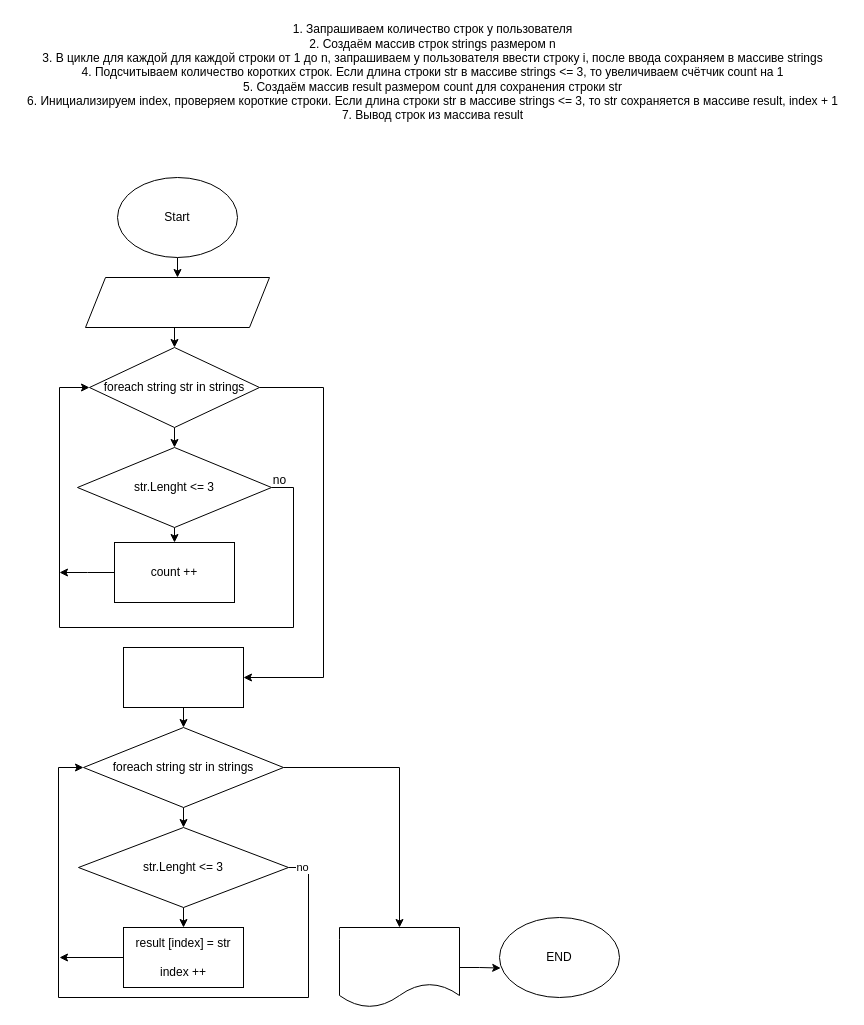
The diagram is 864 pixels wide and 1025 high, and some of its shapes have lost their labels. Here are the shapes that lost their labels. From the top down, the centre of each, then its label:
the point at 177,302: Ввод
the point at 183,677: string[] result index = 0
the point at 399,967: Вывод строк из массива result
